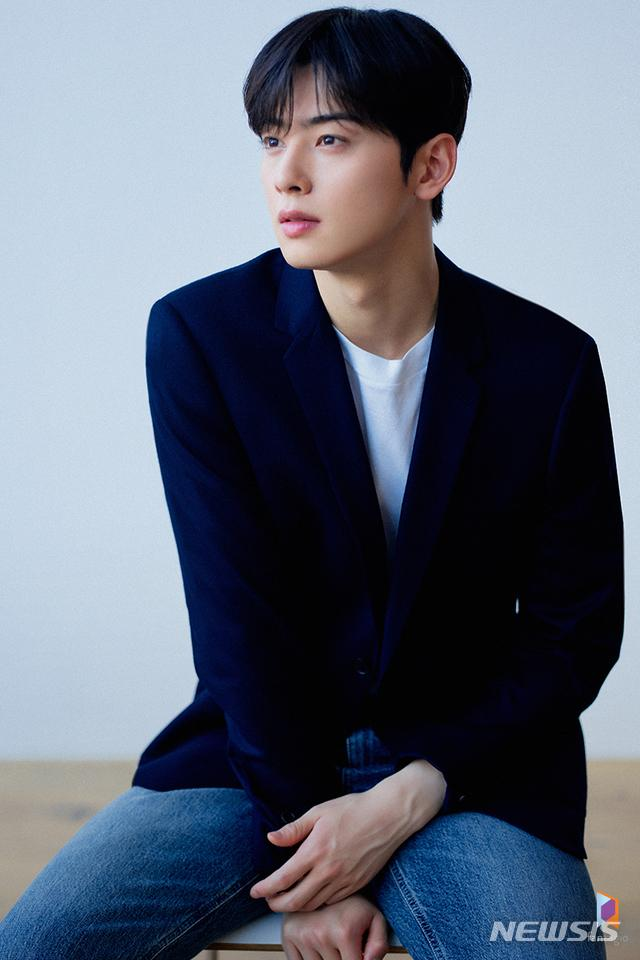opened: (245, 96, 388, 181)
